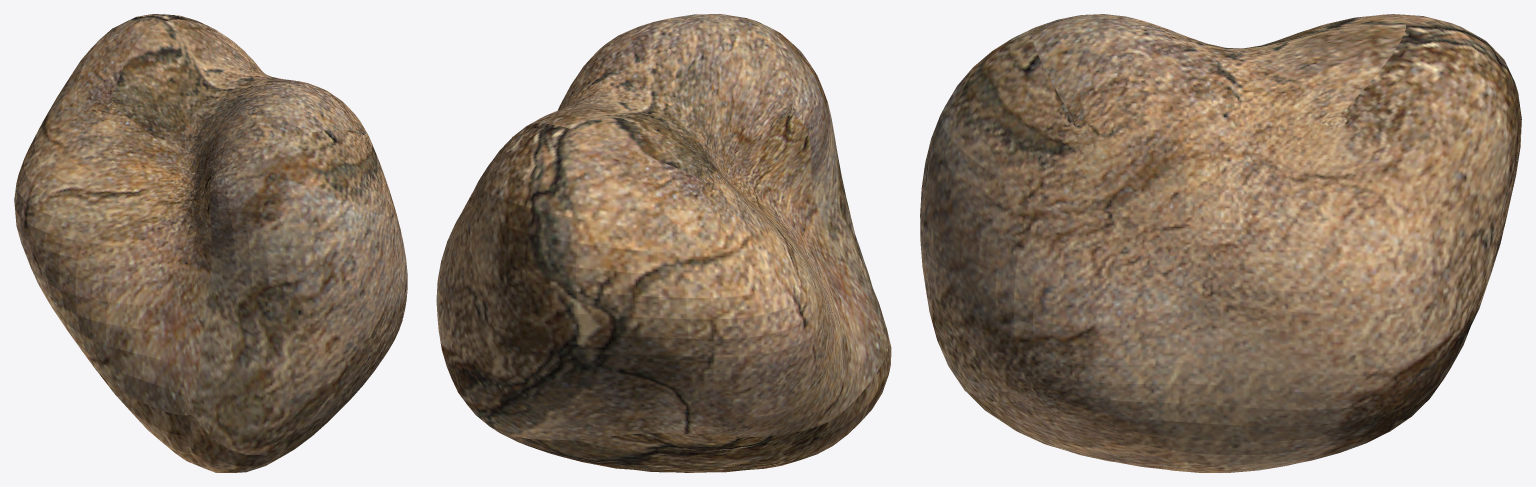
Rendered from asteroid_high.gltf.
3 views of the same model, side by side, from view 1: azimuth 30°, elevation 25°; view 2: azimuth 150°, elevation 25°; view 3: azimuth 270°, elevation 25° (orthographic). The views are drawn at different scales.
Parts seen in each view (by area): view 1: Cube; view 2: Cube; view 3: Cube.
Part boxes in pixels (box(x1,y1,x2,y2)): Cube: box(14, 14, 407, 472); Cube: box(436, 14, 891, 472); Cube: box(920, 14, 1521, 472).
Size of the model in its own units: 1.78 by 1.99 by 2.37.
1 material, 1 textured.
